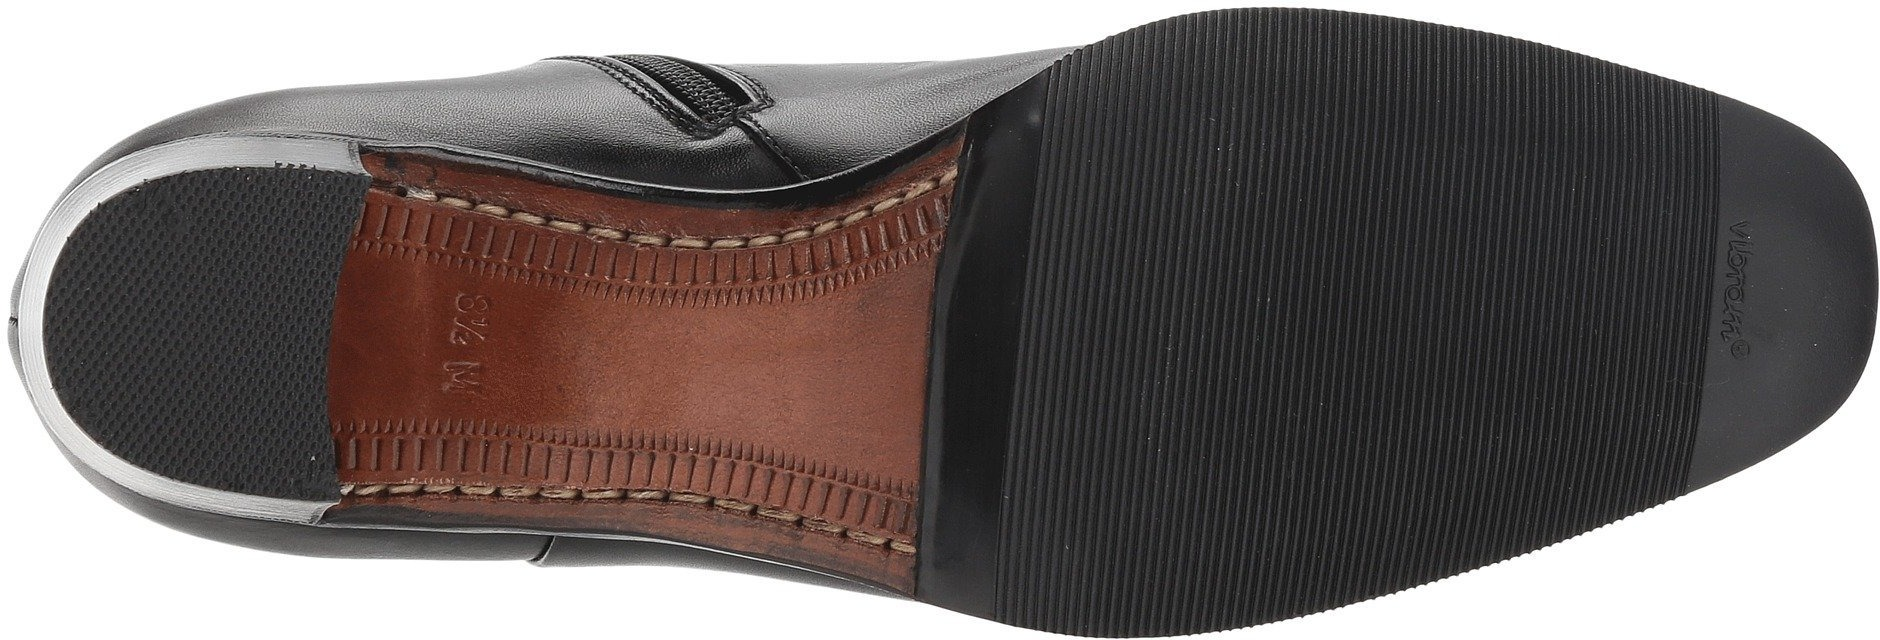circle: (1710, 212, 1779, 369)
other: (1379, 70, 1673, 483), (1055, 72, 1358, 418), (1031, 437, 1328, 604), (108, 215, 320, 427), (1761, 230, 1863, 331)
text: (1710, 212, 1779, 369), (1722, 222, 1777, 273)
